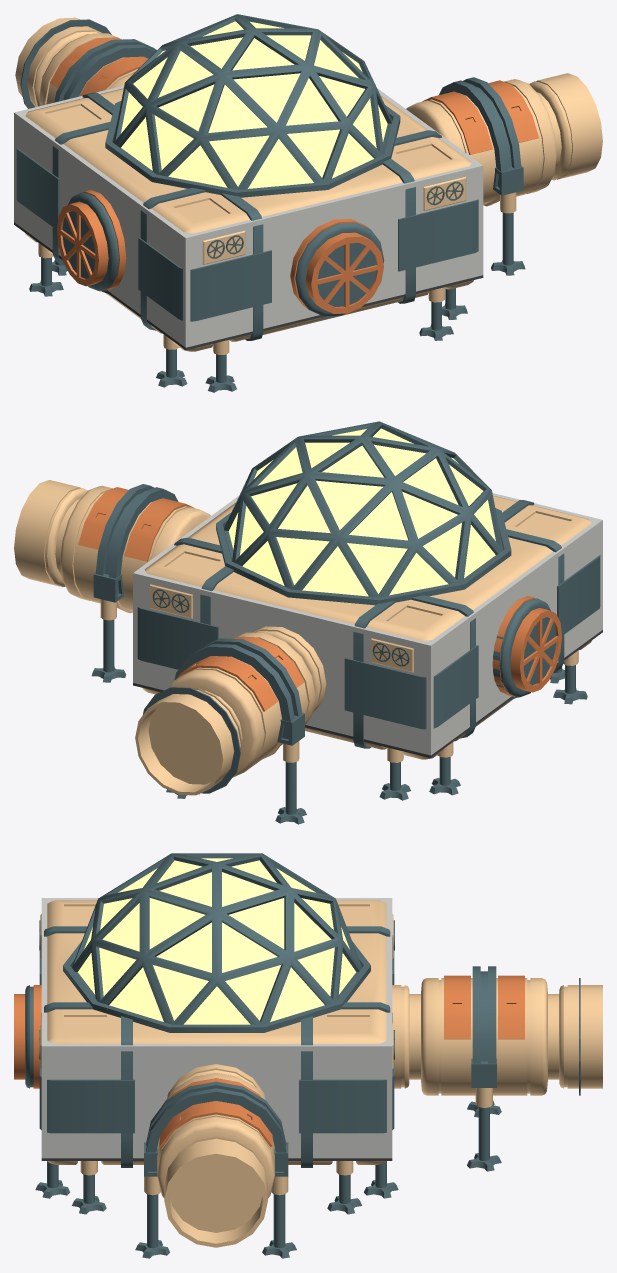
Rendered from colony_dome_hub.fbx.
3 renders of one model, top to bottom at view 1: azimuth 30°, elevation 25°; view 2: azimuth 150°, elevation 25°; view 3: azimuth 270°, elevation 25°, orthographic. The views are drawn at different scales.
Parts seen in each view (by area): view 1: DomeHub.H2.Icosphere.002, DomeHub.H2.Liner, DomeHub.H2.Cube.022, DomeHub.H2.Cube.023, DomeHub.S_H2_X.Cylinder.023, DomeHub.hubdoor1.Cylinder.008, DomeHub.hubdoor0.Cylinder.008, DomeHub.S_H2_Y.Cylinder.040, DomeHub.S_H2_X.Cylinder.024, DomeHub.S_H2_X.Cylinder.025, DomeHub.H2.Icosphere.003, DomeHub.H2.Cube.024 (+6 smaller); view 2: DomeHub.H2.Liner, DomeHub.H2.Icosphere.002, DomeHub.H2.Cube.022, DomeHub.S_H2_Y.Cylinder.040, DomeHub.H2.Cube.023, DomeHub.S_H2_X.Cylinder.023, DomeHub.hubdoor0.Cylinder.008, DomeHub.S_H2_X.Cylinder.024, DomeHub.S_H2_Y.Cylinder.042, DomeHub.S_H2_X.Cylinder.025, DomeHub.S_H2_Y.Cylinder.041, DomeHub.H2.Cube.025 (+6 smaller); view 3: DomeHub.H2.Liner, DomeHub.H2.Icosphere.002, DomeHub.H2.Cube.022, DomeHub.S_H2_Y.Cylinder.040, DomeHub.S_H2_X.Cylinder.023, DomeHub.H2.Cube.023, DomeHub.S_H2_Y.Cylinder.041, DomeHub.S_H2_X.Cylinder.025, DomeHub.S_H2_X.Cylinder.026, DomeHub.hubdoor1.Cylinder.008, DomeHub.S_H2_Y.Cylinder.042, DomeHub.H2.Cube.025 (+6 smaller).
Boxes of the visible parts, x1,y1,x2,y2 form: DomeHub.H2.Icosphere.002: (115,16,392,189); DomeHub.H2.Liner: (14,14,483,350); DomeHub.H2.Cube.022: (25,88,473,392); DomeHub.H2.Cube.023: (16,147,478,321); DomeHub.S_H2_X.Cylinder.023: (406,73,602,206); DomeHub.hubdoor1.Cylinder.008: (290,219,384,316); DomeHub.hubdoor0.Cylinder.008: (57,190,126,291); DomeHub.S_H2_Y.Cylinder.040: (15,17,139,107); DomeHub.S_H2_X.Cylinder.024: (422,80,538,154); DomeHub.S_H2_X.Cylinder.025: (439,77,521,171); DomeHub.H2.Icosphere.003: (105,109,400,197); DomeHub.H2.Cube.024: (82,92,415,340); DomeHub.H2.Liner: (133,423,602,757); DomeHub.H2.Icosphere.002: (224,421,503,596); DomeHub.H2.Cube.022: (142,495,591,800); DomeHub.S_H2_Y.Cylinder.040: (135,626,326,795); DomeHub.H2.Cube.023: (137,555,600,729); DomeHub.S_H2_X.Cylinder.023: (14,480,210,613); DomeHub.hubdoor0.Cylinder.008: (492,596,561,697); DomeHub.S_H2_X.Cylinder.024: (78,487,194,561); DomeHub.S_H2_Y.Cylinder.042: (174,638,302,721); DomeHub.S_H2_X.Cylinder.025: (95,484,178,578); DomeHub.S_H2_Y.Cylinder.041: (176,636,304,711); DomeHub.H2.Cube.025: (174,529,564,738); DomeHub.H2.Liner: (41,853,392,1160); DomeHub.H2.Icosphere.002: (72,853,359,1024); DomeHub.H2.Cube.022: (35,900,398,1214); DomeHub.S_H2_Y.Cylinder.040: (392,978,602,1095); DomeHub.S_H2_X.Cylinder.023: (157,1064,274,1247); DomeHub.H2.Cube.023: (39,951,394,1133); DomeHub.S_H2_Y.Cylinder.041: (444,975,524,1039); DomeHub.S_H2_X.Cylinder.025: (146,1081,286,1152); DomeHub.S_H2_X.Cylinder.026: (135,1176,296,1258); DomeHub.hubdoor1.Cylinder.008: (14,985,41,1088); DomeHub.S_H2_Y.Cylinder.042: (472,966,496,1063); DomeHub.H2.Cube.025: (121,1016,312,1167).
Bounding box in the file's own units: 2816 × 1455 × 2811.
